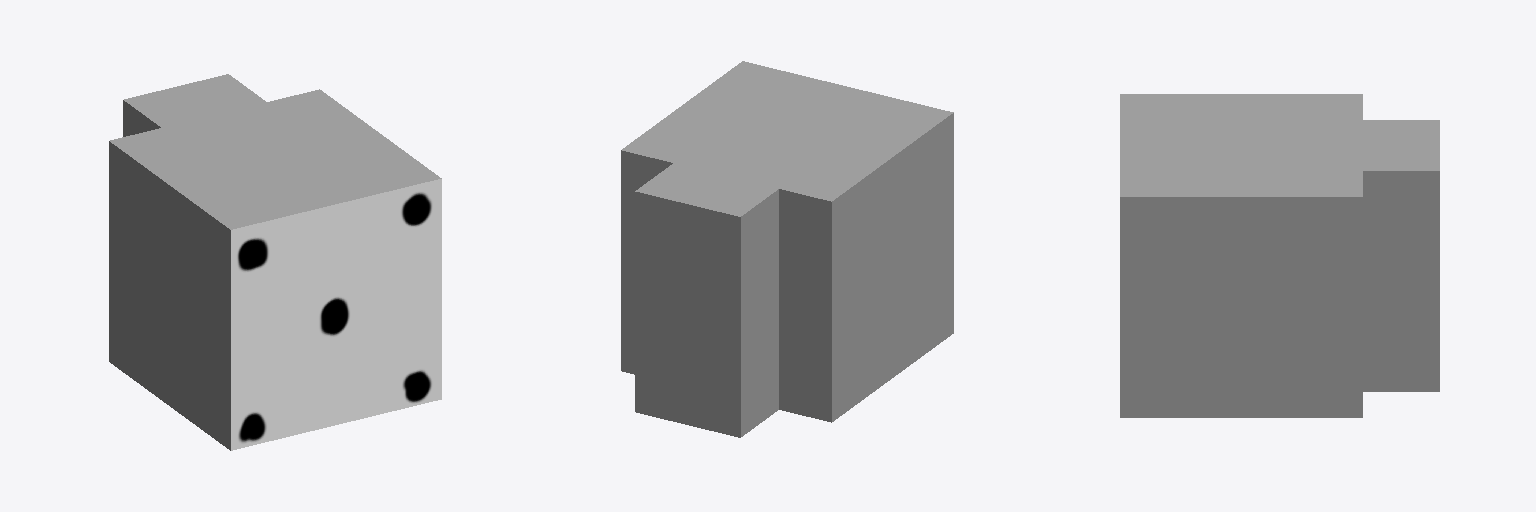
3 renders of one model, left to right at view 1: azimuth 30°, elevation 25°; view 2: azimuth 150°, elevation 25°; view 3: azimuth 270°, elevation 25°, orthographic.
Parts seen in each view (by area): view 1: Cube.002_Cube.003; view 2: Cube.002_Cube.003; view 3: Cube.002_Cube.003.
Boxes of the visible parts, x1,y1,x2,y2 form: Cube.002_Cube.003: [109, 74, 441, 450]; Cube.002_Cube.003: [621, 61, 953, 437]; Cube.002_Cube.003: [1120, 94, 1439, 417].
Bounding box in the file's own units: 0.3619 × 0.3619 × 0.4765.
Materials: 1 (1 with a texture image).